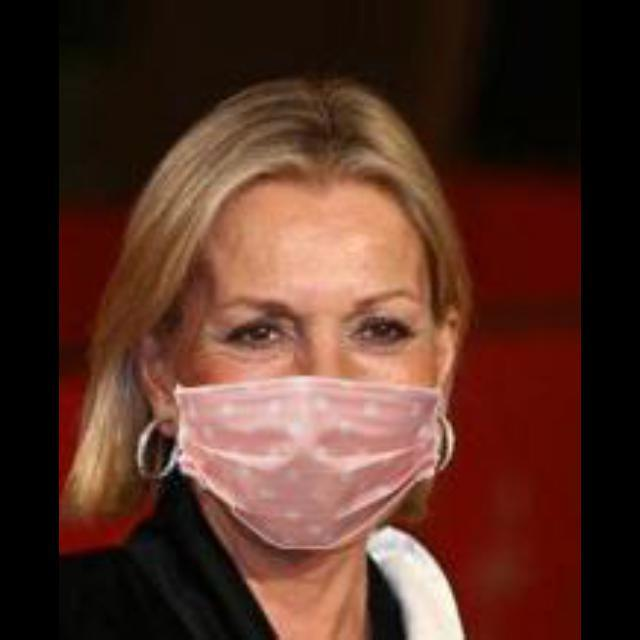suspicion: (146, 105, 462, 601)
